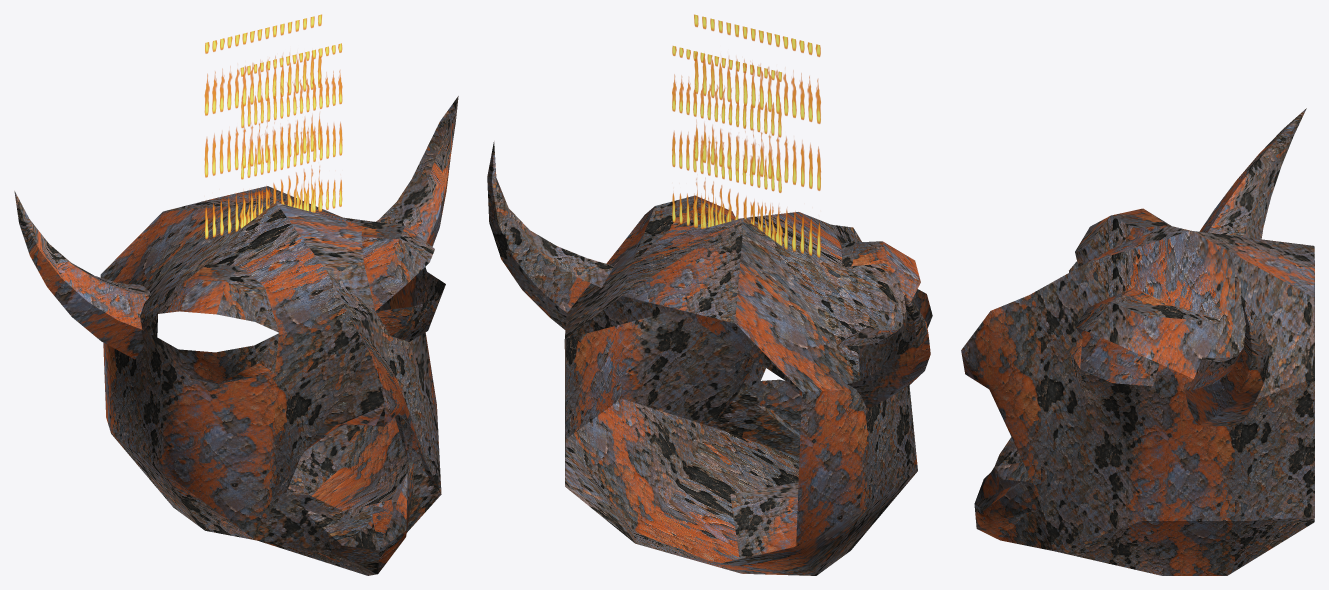
Rendered from mm9_deco_sconce2.glb.
The picture shows the model from 3 angles, left to right: view 1: azimuth 30°, elevation 25°; view 2: azimuth 150°, elevation 25°; view 3: azimuth 270°, elevation 25°; orthographic projection. The views are drawn at different scales.
Parts seen in each view (by area): view 1: Sconce2; view 2: Sconce2; view 3: Sconce2.
Boxes of the visible parts, left/top/right/bottom form: Sconce2: left=14, top=14, right=458, bottom=575; Sconce2: left=487, top=14, right=932, bottom=575; Sconce2: left=961, top=108, right=1314, bottom=575.
Size of the model in its own units: 0.6925 by 0.7984 by 0.4977.
2 materials, 2 textured.
